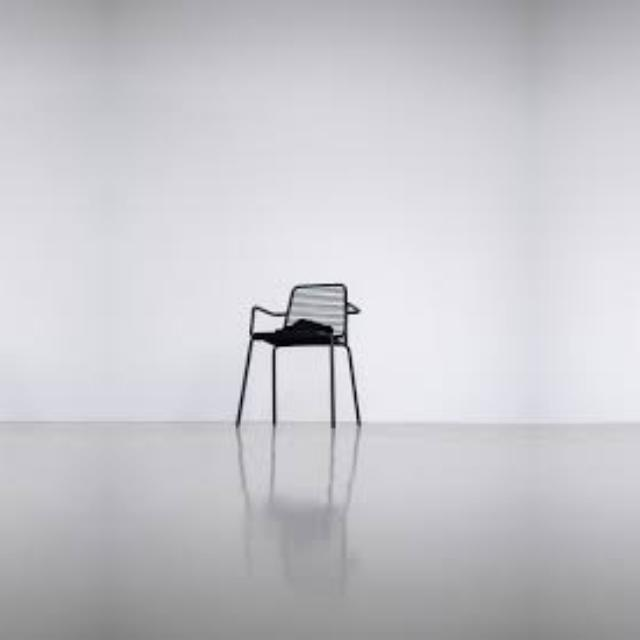obstacle: (210, 256, 418, 458), (0, 256, 4, 458)
